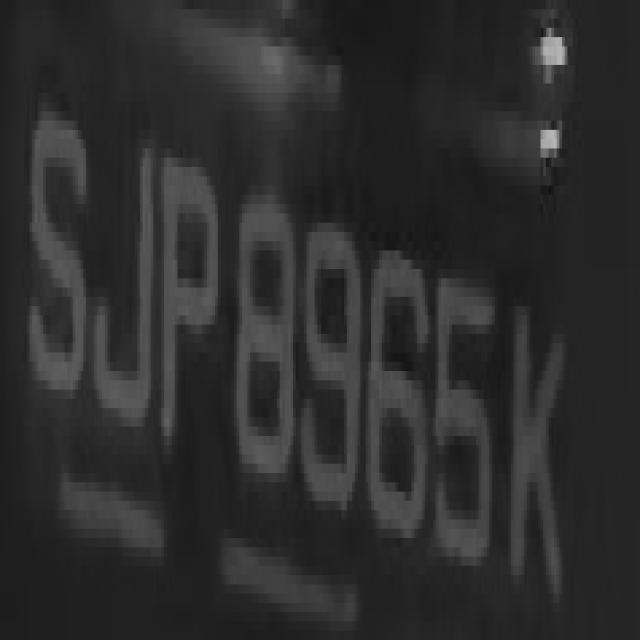5: (427, 241, 503, 594)
6: (363, 232, 428, 575)
8: (220, 167, 306, 519)
9: (298, 176, 368, 520)
J: (99, 93, 156, 454)
K: (508, 250, 570, 603)
P: (158, 130, 218, 473)
S: (16, 84, 97, 445)
